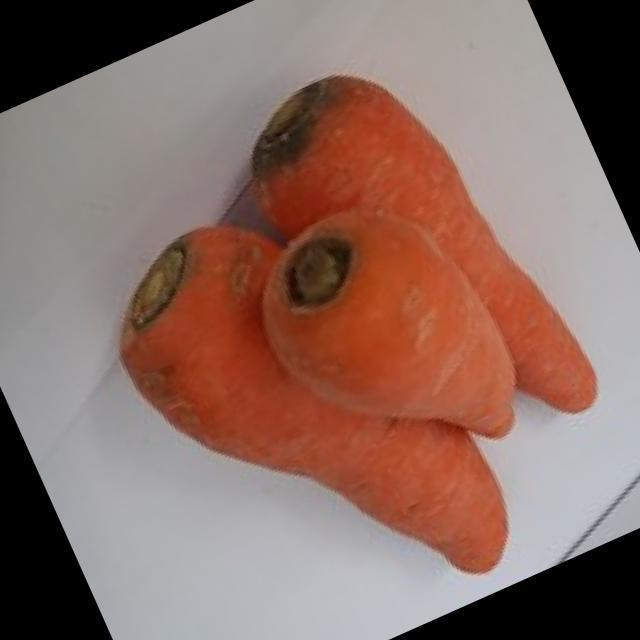carrot: (121, 224, 508, 572), (248, 76, 594, 411), (262, 211, 516, 436)
